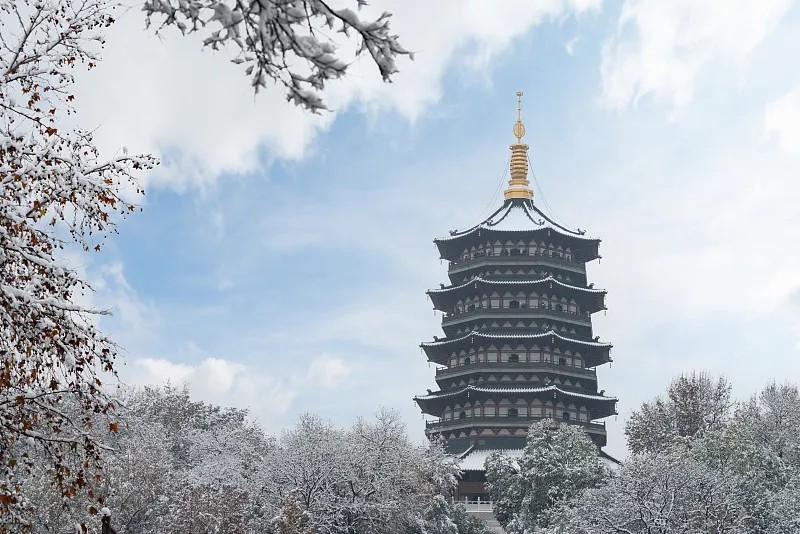Leifeng: (411, 91, 630, 509)
